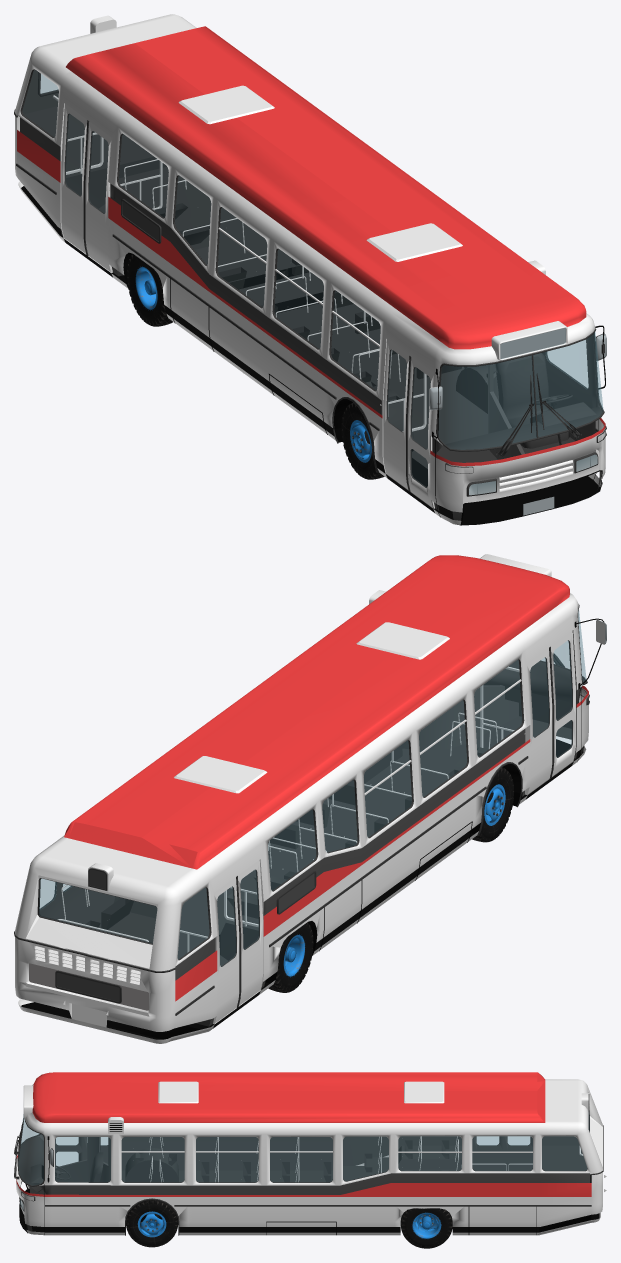
The model's file is veicolo_autobus_linea.glb.
3 renders of one model, top to bottom at view 1: azimuth 30°, elevation 25°; view 2: azimuth 150°, elevation 25°; view 3: azimuth 270°, elevation 25°, orthographic. The views are drawn at different scales.
Visible parts, largest first — view 1: sb_modello; view 2: sb_modello; view 3: sb_modello.
Part boxes in pixels (x1,y1,x2,y2): sb_modello: [14, 14, 606, 525]; sb_modello: [14, 554, 606, 1043]; sb_modello: [14, 1072, 606, 1248].
Size of the model in its own units: 31.86 by 32.36 by 131.
12 materials, 2 textured.
